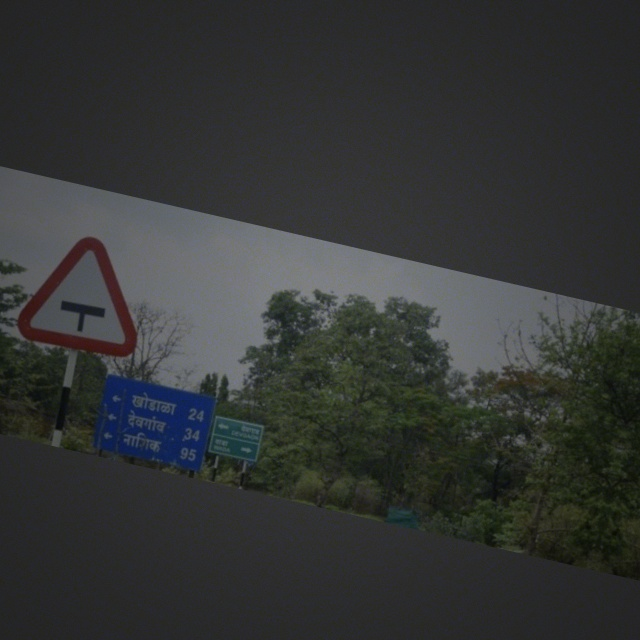T_Intersection: (9, 223, 163, 375)
